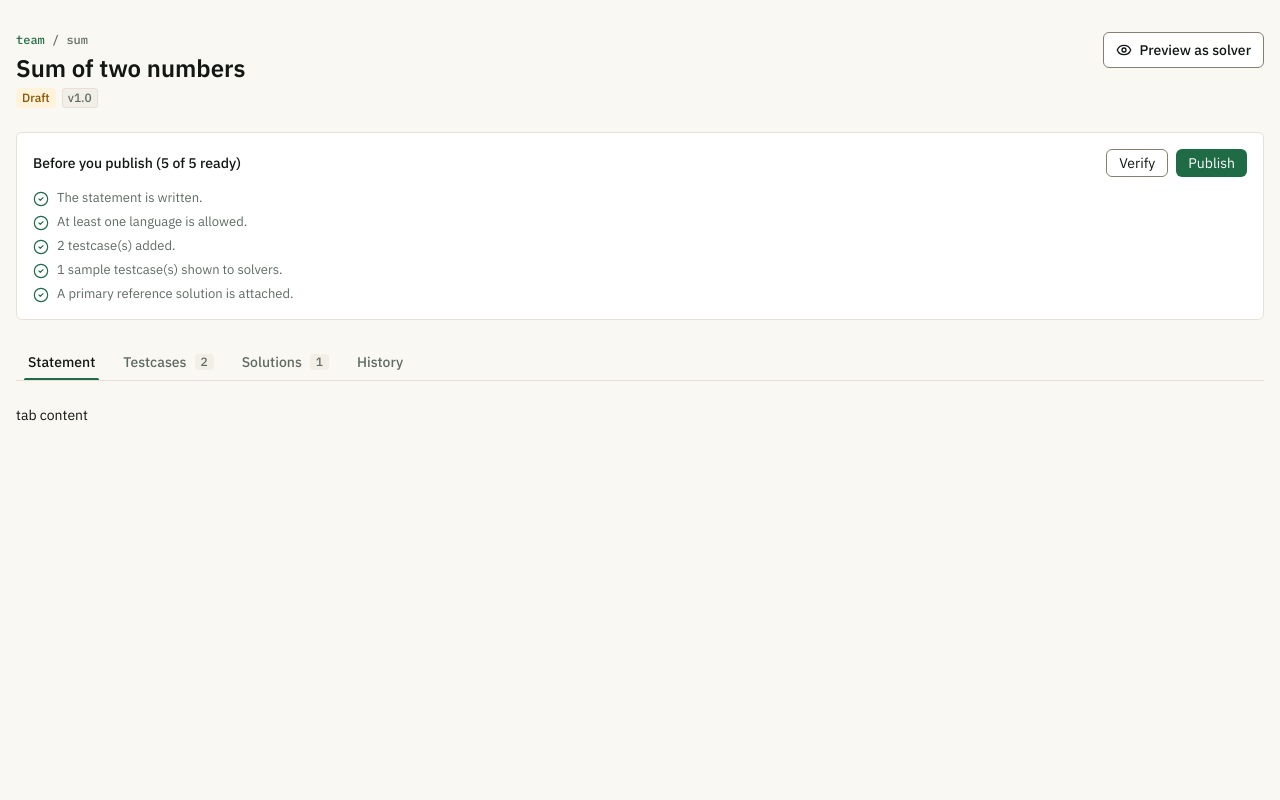
publishing › shows what Core says is missing when it refuses, even though the page thought it was ready
Click the button "Publish".
click(1212, 163)  # box [1176,149,1247,177]
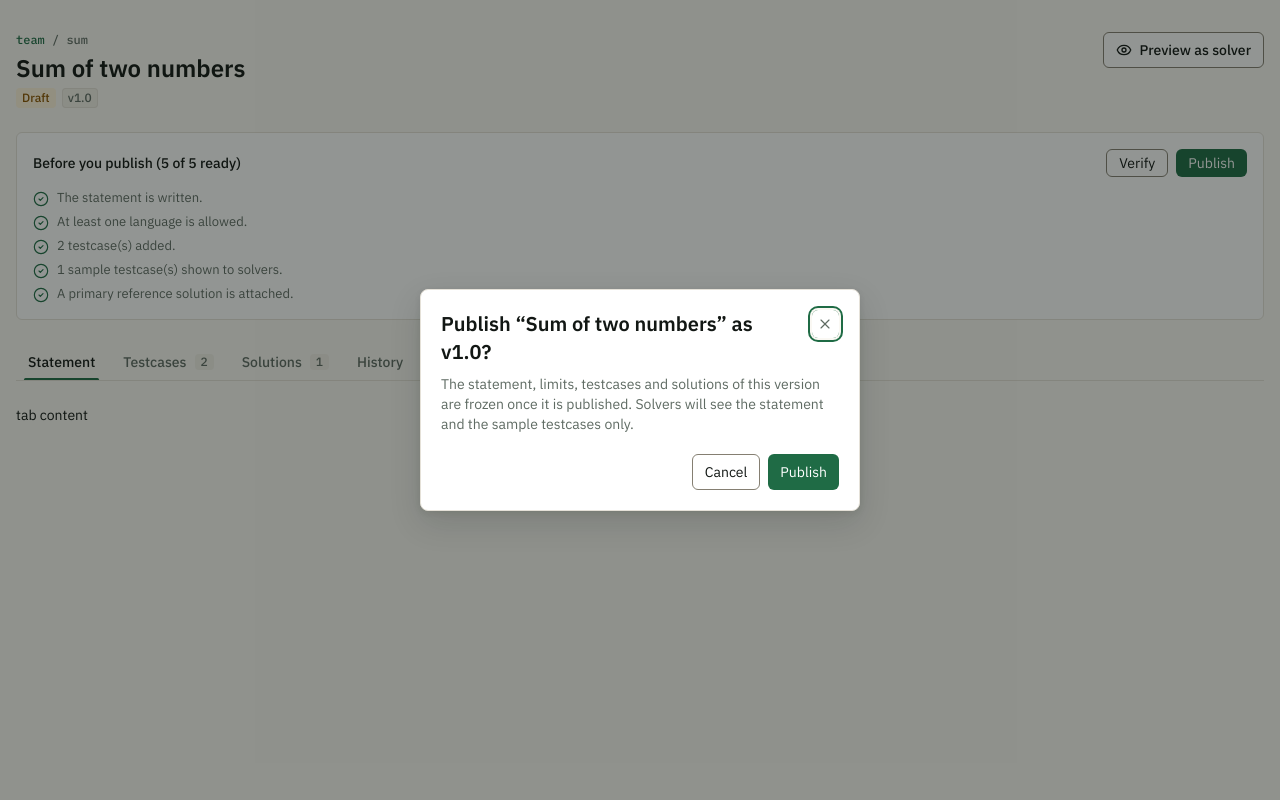
Click the button "Publish".
click(804, 472)  # box [768,454,839,490]
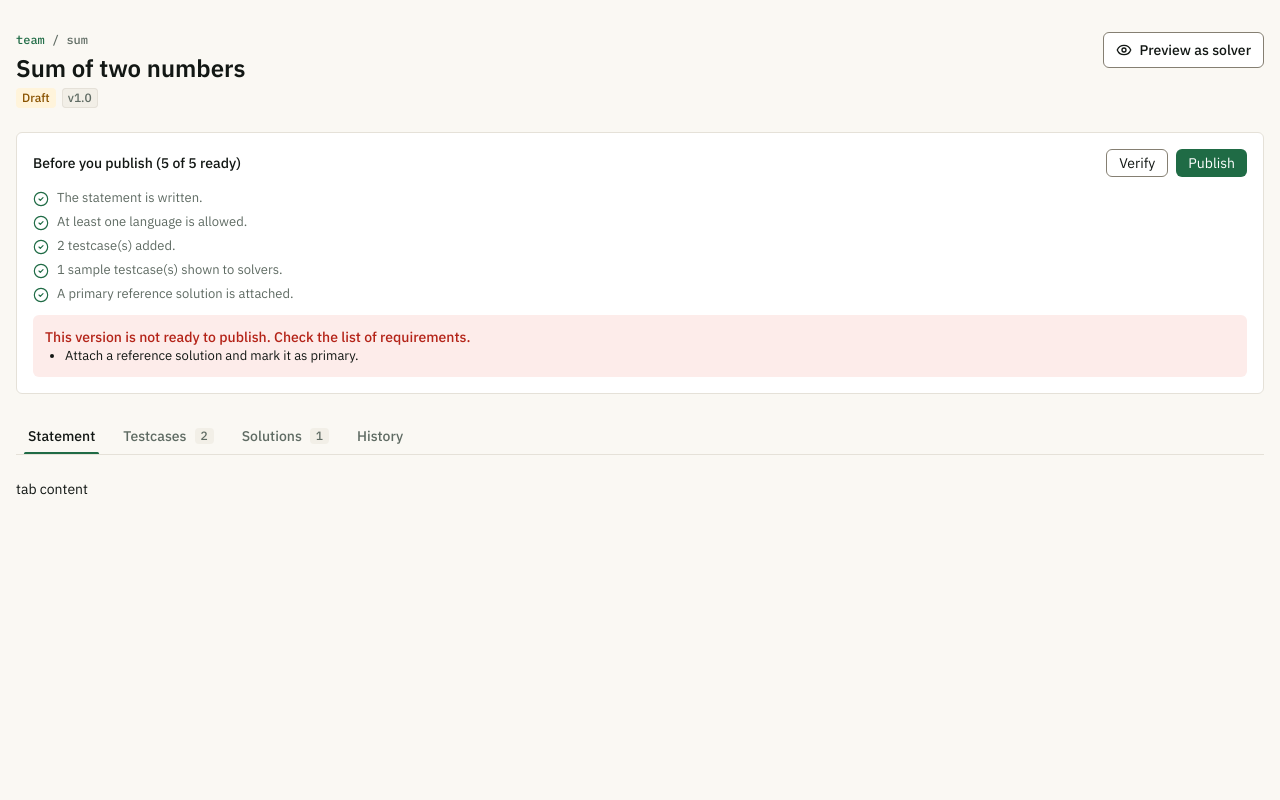
Check: the message shows "Attach a reference solution and mark it as primary.", box [65,347,358,364]
